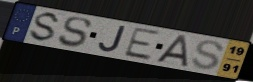A: (155, 34, 189, 68)
E: (121, 26, 162, 62)
J: (98, 25, 128, 53)
S: (57, 16, 94, 48), (27, 11, 63, 43), (189, 39, 225, 71)
